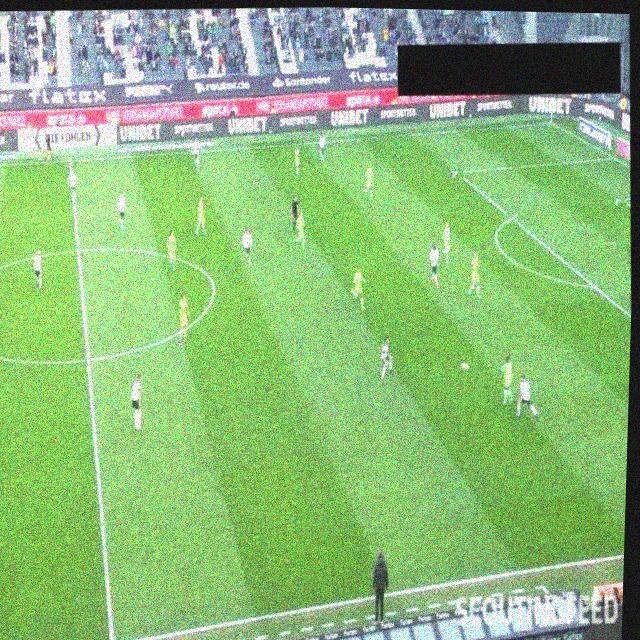bigarea_top_inner: (451, 167, 463, 178)
bigarea_top_outter: (607, 152, 619, 163)
bottom_arc_area_intersection: (589, 281, 602, 294)
corner: (545, 118, 556, 129)
halfcircle_bottom: (81, 353, 93, 366)
halfcircle_top: (71, 244, 83, 256)
midline_bottom_intersection: (103, 635, 121, 640)
midline_top_intersection: (64, 155, 75, 167)
smallarea_top_inner: (615, 194, 626, 205)
top_arc_area_intersection: (506, 212, 517, 225)
